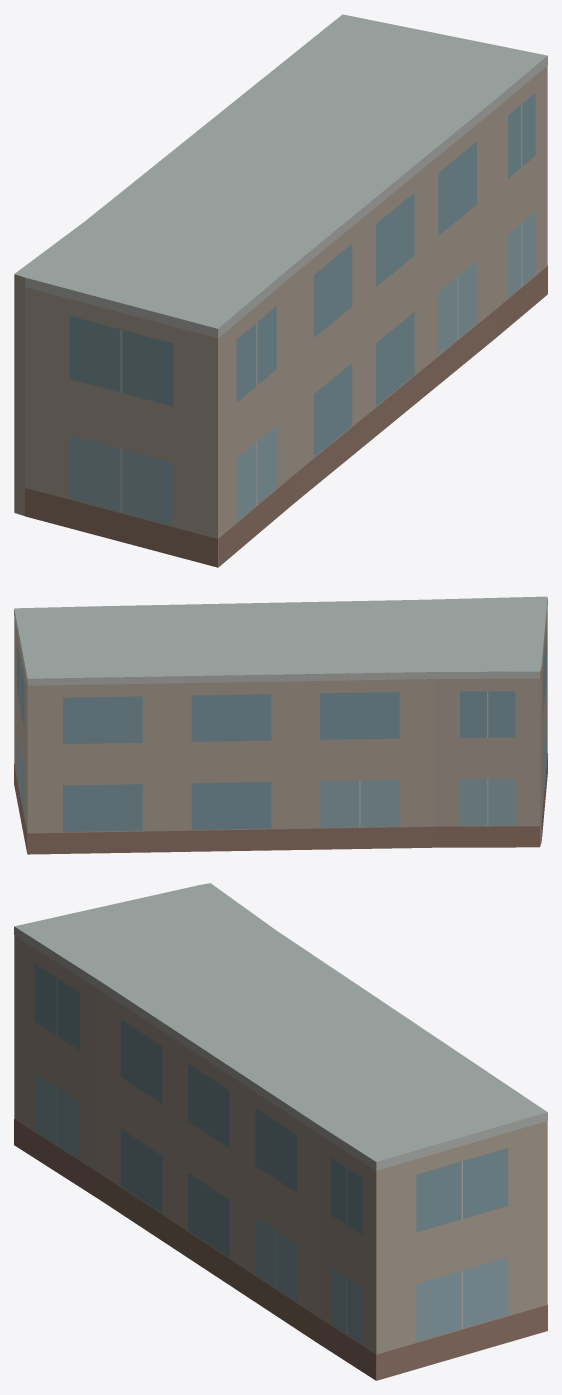
File: survey-upis-32495801.glb
3 renders of one model, top to bottom at view 1: azimuth 30°, elevation 25°; view 2: azimuth 150°, elevation 25°; view 3: azimuth 270°, elevation 25°, orthographic. The views are drawn at different scales.
Parts seen in each view (by area): view 1: survey-upis-32495801.tmp; view 2: survey-upis-32495801.tmp; view 3: survey-upis-32495801.tmp.
Boxes of the visible parts, x1,y1,x2,y2 form: survey-upis-32495801.tmp: (14, 14, 547, 567); survey-upis-32495801.tmp: (14, 596, 547, 854); survey-upis-32495801.tmp: (14, 883, 547, 1380).
Bounding box in the file's own units: 16.7 × 6.1 × 13.5.
